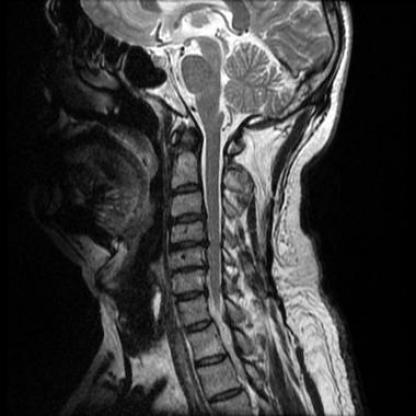Disc Protrusionrotation: (169, 210, 207, 227), (168, 262, 208, 277), (167, 238, 206, 253), (173, 287, 207, 303)
Osteophytesrotation: (169, 210, 207, 227), (168, 262, 208, 277), (167, 238, 206, 253), (173, 287, 207, 303)
